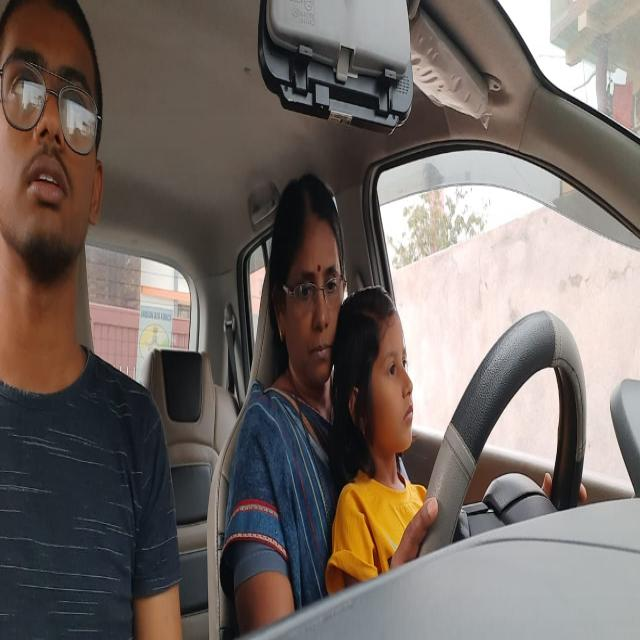child: (338, 292, 420, 474)
person: (4, 11, 100, 279), (271, 175, 345, 414)
